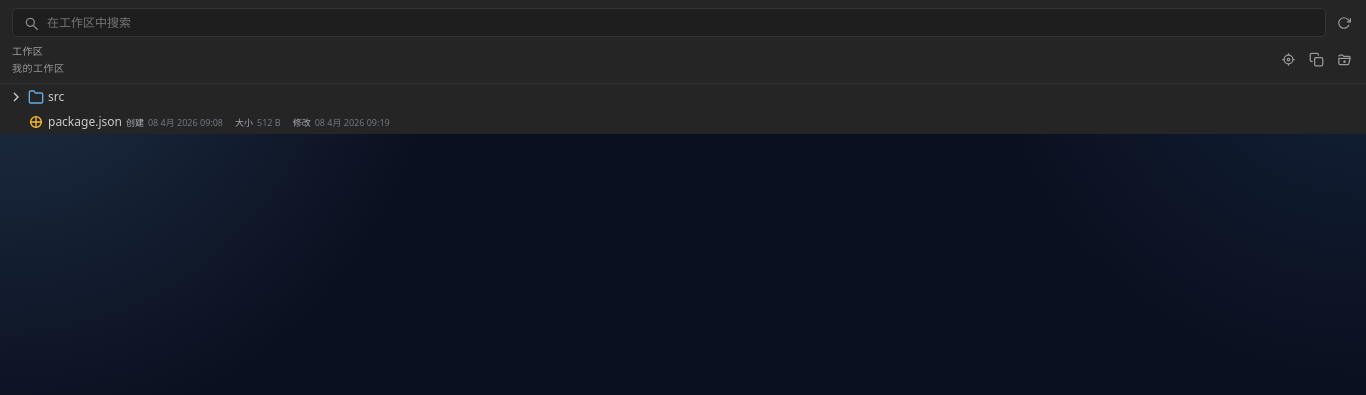
Test: FileTree.vue › 右键菜单 › 点击"新建文件"应发射 new-file 事件
The image size is (1366, 395).
Right-click the list item with class "file-tree-item" showing "src" at (36, 96), box x1=8 y1=88 x2=64 y2=105
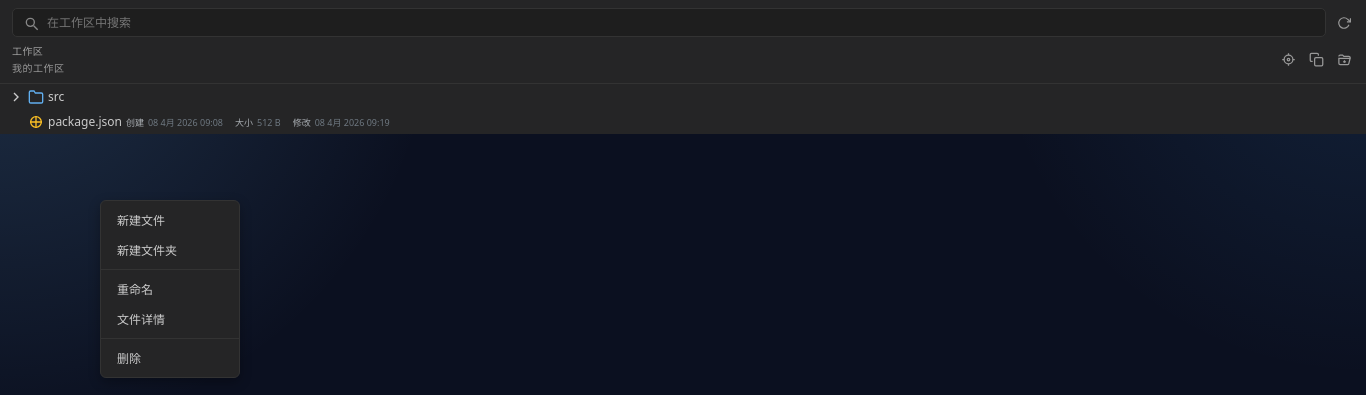
Click the text with class "context-menu-item" showing "新建文件" at (141, 220), box x1=117 y1=212 x2=165 y2=229
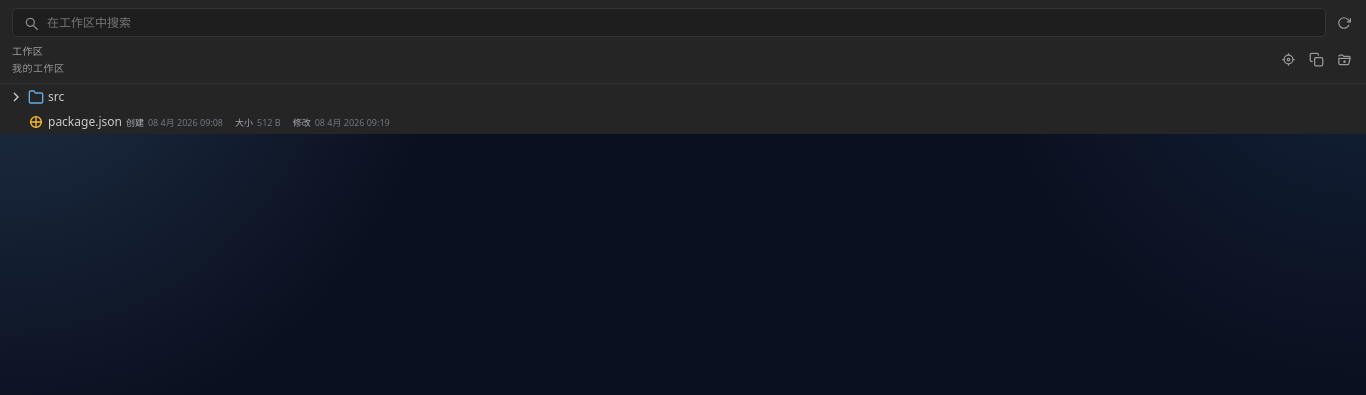
Expected: the element with class "context-menu" is gone
